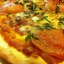pepperoni: (31, 27, 64, 56)
pizza: (1, 1, 64, 64)
